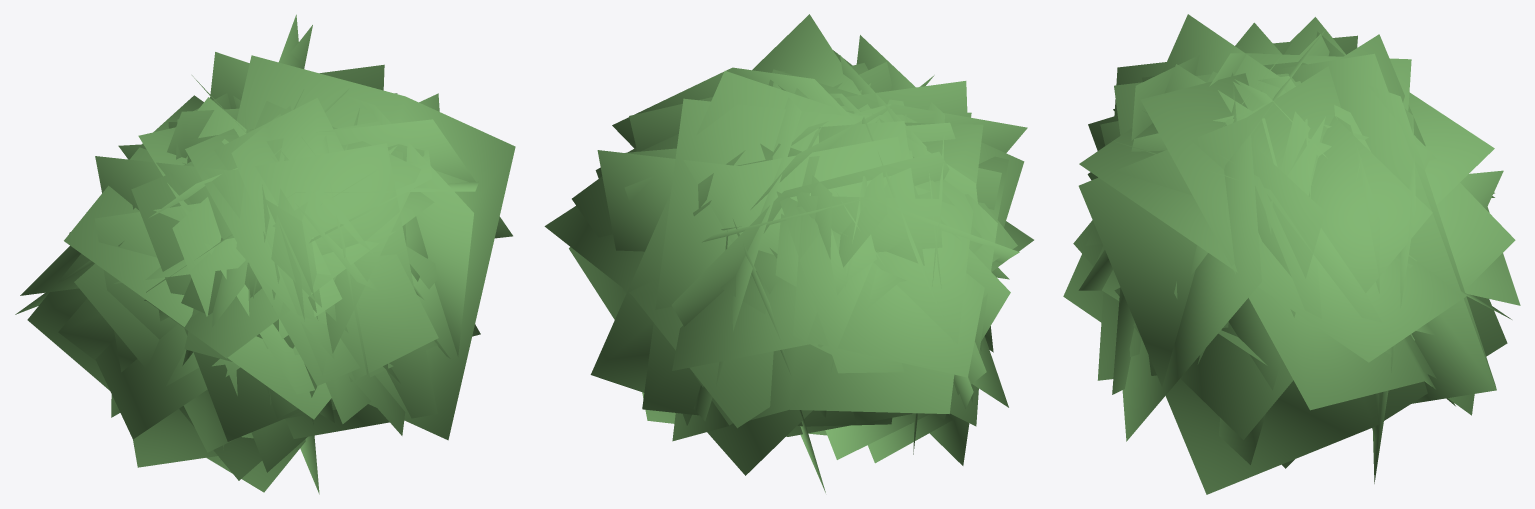
The model's file is v15-semak.glb.
The picture shows the model from 3 angles, left to right: view 1: azimuth 30°, elevation 25°; view 2: azimuth 150°, elevation 25°; view 3: azimuth 270°, elevation 25°; orthographic projection. The views are drawn at different scales.
Parts seen in each view (by area): view 1: v15-semak_daun; view 2: v15-semak_daun; view 3: v15-semak_daun.
Part boxes in pixels (bbox=[...]): v15-semak_daun: bbox=[15, 14, 515, 494]; v15-semak_daun: bbox=[544, 14, 1033, 492]; v15-semak_daun: bbox=[1063, 14, 1520, 494].
Bounding box in the file's own units: 2.65 × 2.33 × 2.2.
